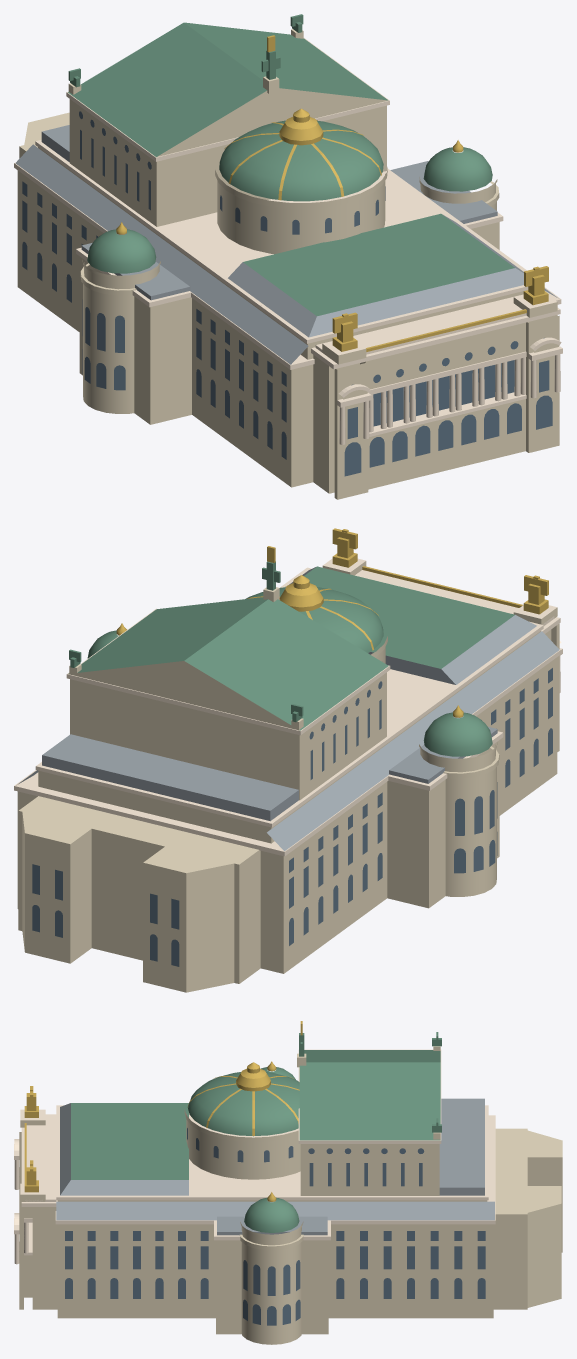
File: paris-opera-garnier.glb
The picture shows the model from 3 angles, top to bottom: view 1: azimuth 30°, elevation 25°; view 2: azimuth 150°, elevation 25°; view 3: azimuth 270°, elevation 25°; orthographic projection. The views are drawn at different scales.
Visible parts, largest first — view 1: Opéra Garnier; view 2: Opéra Garnier; view 3: Opéra Garnier.
Boxes of the visible parts, x1,y1,x2,y2 form: Opéra Garnier: (14, 14, 562, 499); Opéra Garnier: (14, 528, 562, 992); Opéra Garnier: (14, 1021, 562, 1344).
Bounding box in the file's own units: 103 × 73.8 × 151.
